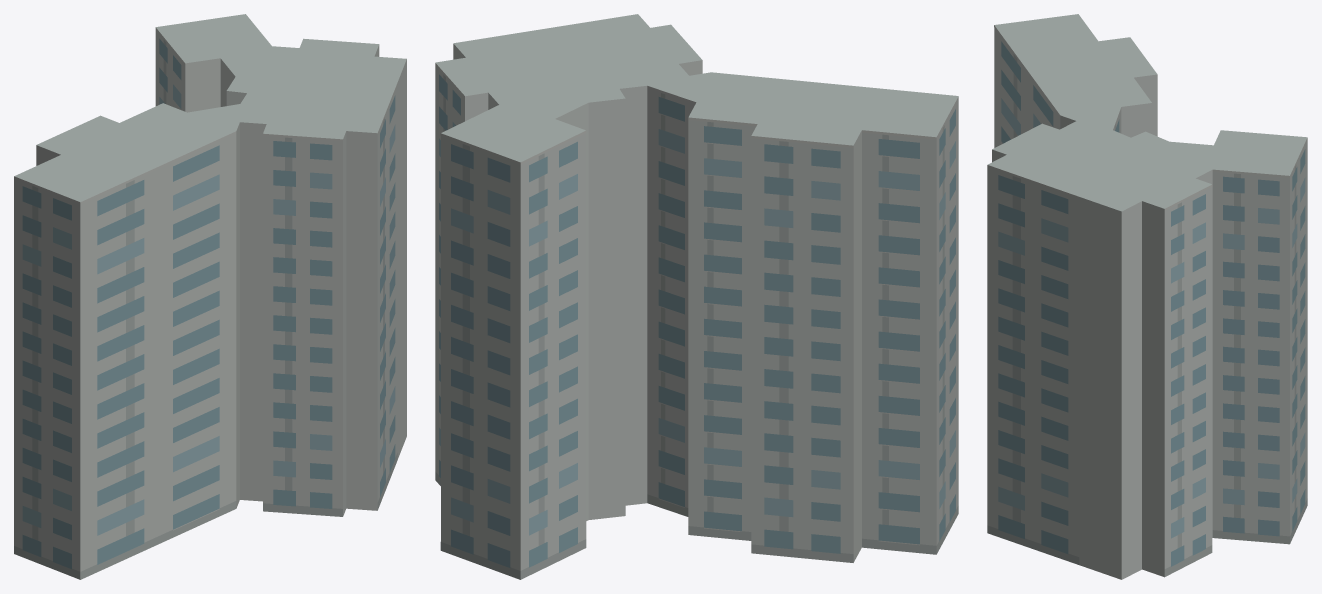
The model's file is residential-558749c4-82d5-4ba0-b27c-12706a479909.glb.
3 renders of one model, left to right at view 1: azimuth 30°, elevation 25°; view 2: azimuth 150°, elevation 25°; view 3: azimuth 270°, elevation 25°, orthographic. The views are drawn at different scales.
Parts seen in each view (by area): view 1: residential-558749c4-82d5-4ba0-b27c-12706a479909.tmp; view 2: residential-558749c4-82d5-4ba0-b27c-12706a479909.tmp; view 3: residential-558749c4-82d5-4ba0-b27c-12706a479909.tmp.
Boxes of the visible parts, x1,y1,x2,y2 form: residential-558749c4-82d5-4ba0-b27c-12706a479909.tmp: (14,14,406,579); residential-558749c4-82d5-4ba0-b27c-12706a479909.tmp: (435,14,958,579); residential-558749c4-82d5-4ba0-b27c-12706a479909.tmp: (987,14,1307,579).
Size of the model in its own units: 45.6 by 39.65 by 31.25.
